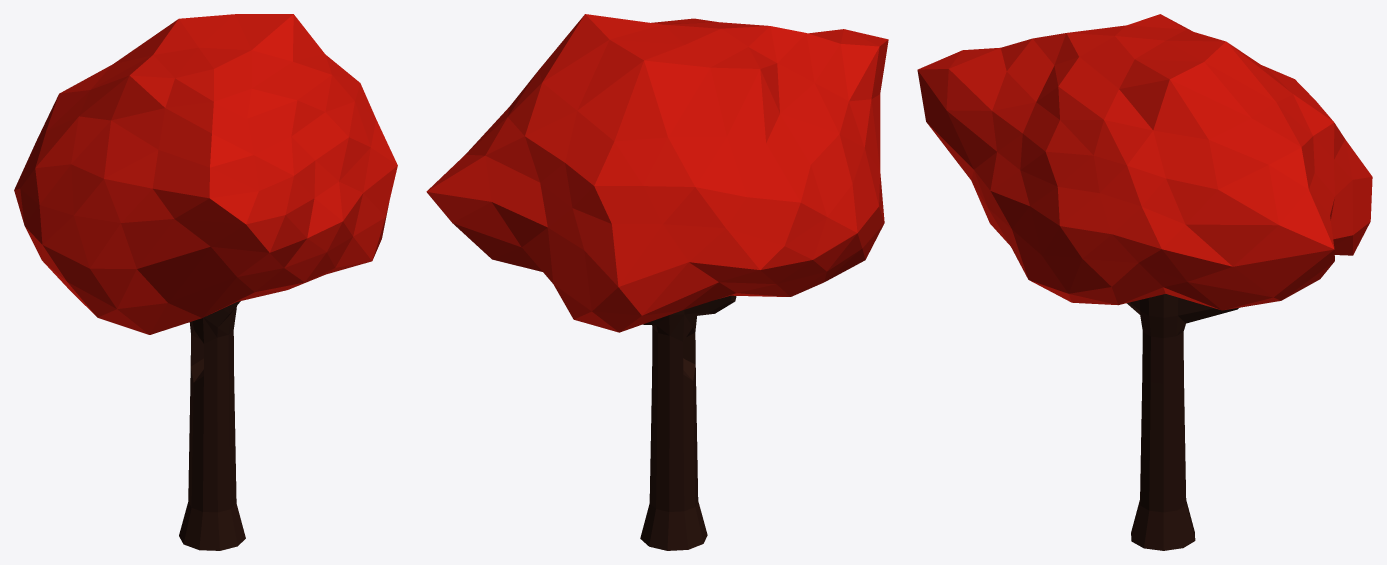
The model's file is t3-orange.obj.
3 views of the same model, side by side, from view 1: azimuth 30°, elevation 25°; view 2: azimuth 150°, elevation 25°; view 3: azimuth 270°, elevation 25° (orthographic).
Visible parts, largest first — view 1: t3-orange_Cylinder.019; view 2: t3-orange_Cylinder.019; view 3: t3-orange_Cylinder.019.
Boxes of the visible parts, x1,y1,x2,y2 form: t3-orange_Cylinder.019: (14,14,397,550); t3-orange_Cylinder.019: (426,14,888,550); t3-orange_Cylinder.019: (917,14,1372,550).
Bounding box in the file's own units: 6.51 × 9.23 × 7.64.
